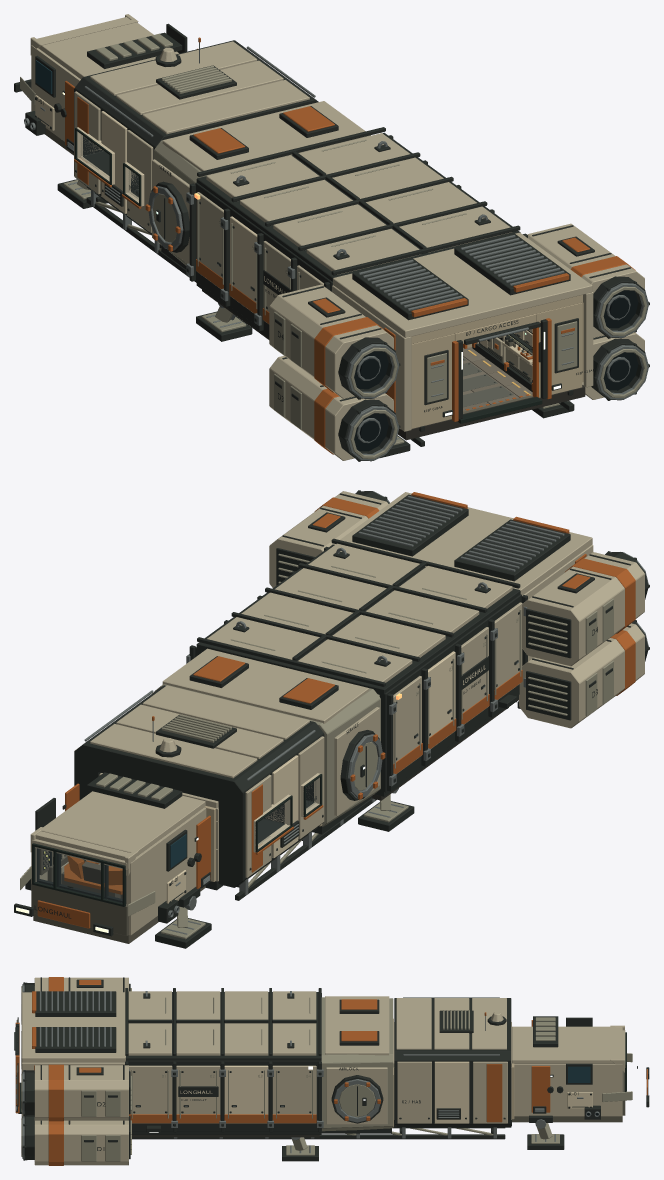
File: longhaul_playable.glb
3 renders of one model, top to bottom at view 1: azimuth 30°, elevation 25°; view 2: azimuth 150°, elevation 25°; view 3: azimuth 270°, elevation 25°, orthographic. The views are drawn at different scales.
Visible parts, largest first — view 1: Exterior / 04 Cargo shell / ivory.001, Exterior / 04 Cargo shell / dark.001, Exterior / 02 Living hab / ivory.001, Exterior / 06 Engines / ivory.001, Exterior / 05 Engineering / ivory.001, Exterior / 05 Engineering / dark.001, Exterior / 03 Service and airlock / ivory.001, Exterior / 02 Living hab / dark.001, Exterior / 05 Engineering / metal.001, Exterior / 06 Engines / dark.001, Engineering / Equipment / b8aa8b / 0.001, Exterior / 06 Engines / shade.001 (+28 smaller); view 2: Exterior / 04 Cargo shell / ivory.001, Exterior / 04 Cargo shell / dark.001, Exterior / 06 Engines / ivory.001, Exterior / 02 Living hab / ivory.001, Exterior / 02 Living hab / dark.001, Exterior / 03 Service and airlock / ivory.001, Cockpit / Ceiling / b4ab91 / 0.001, Exterior / 06 Engines / dark.001, Exterior / 05 Engineering / dark.001, Exterior / 05 Engineering / ivory.001, Exterior / 05 Engineering / metal.001, Cockpit / Shell / b4ab91 / 0.001 (+23 smaller); view 3: Exterior / 04 Cargo shell / ivory.001, Exterior / 04 Cargo shell / dark.001, Exterior / 02 Living hab / ivory.001, Exterior / 06 Engines / ivory.001, Exterior / 02 Living hab / dark.001, Exterior / 03 Service and airlock / ivory.001, Exterior / 05 Engineering / dark.001, Cockpit / Shell / b4ab91 / 0.001, Cockpit / Ceiling / b4ab91 / 0.001, Exterior / 05 Engineering / ivory.001, Exterior / 03 Service and airlock / shade.001, Exterior / 04 Cargo shell / light.001 (+27 smaller).
Part boxes in pixels (x1,y1,x2,y2): Exterior / 04 Cargo shell / ivory.001: [196, 133, 511, 323]; Exterior / 04 Cargo shell / dark.001: [186, 127, 527, 338]; Exterior / 02 Living hab / ivory.001: [74, 41, 309, 232]; Exterior / 06 Engines / ivory.001: [269, 223, 644, 460]; Exterior / 05 Engineering / ivory.001: [332, 232, 593, 431]; Exterior / 05 Engineering / dark.001: [352, 233, 578, 419]; Exterior / 03 Service and airlock / ivory.001: [152, 101, 367, 263]; Exterior / 02 Living hab / dark.001: [74, 40, 318, 233]; Exterior / 05 Engineering / metal.001: [358, 235, 573, 396]; Exterior / 06 Engines / dark.001: [275, 225, 649, 461]; Engineering / Equipment / b8aa8b / 0.001: [411, 303, 582, 428]; Exterior / 06 Engines / shade.001: [274, 286, 647, 458]; Exterior / 04 Cargo shell / ivory.001: [207, 543, 522, 773]; Exterior / 04 Cargo shell / dark.001: [189, 538, 527, 796]; Exterior / 06 Engines / ivory.001: [269, 491, 644, 728]; Exterior / 02 Living hab / ivory.001: [74, 685, 324, 877]; Exterior / 02 Living hab / dark.001: [74, 685, 324, 887]; Exterior / 03 Service and airlock / ivory.001: [152, 648, 379, 816]; Cockpit / Ceiling / b4ab91 / 0.001: [31, 791, 205, 869]; Exterior / 06 Engines / dark.001: [276, 490, 649, 720]; Exterior / 05 Engineering / dark.001: [352, 494, 570, 581]; Exterior / 05 Engineering / ivory.001: [334, 492, 593, 660]; Exterior / 05 Engineering / metal.001: [358, 496, 564, 571]; Cockpit / Shell / b4ab91 / 0.001: [31, 807, 206, 935]; Exterior / 04 Cargo shell / ivory.001: [128, 991, 316, 1123]; Exterior / 04 Cargo shell / dark.001: [125, 988, 321, 1134]; Exterior / 02 Living hab / ivory.001: [396, 998, 507, 1123]; Exterior / 06 Engines / ivory.001: [34, 977, 128, 1165]; Exterior / 02 Living hab / dark.001: [394, 998, 511, 1127]; Exterior / 03 Service and airlock / ivory.001: [325, 996, 389, 1124]; Exterior / 05 Engineering / dark.001: [15, 991, 116, 1111]; Cockpit / Shell / b4ab91 / 0.001: [514, 1064, 622, 1116]; Cockpit / Ceiling / b4ab91 / 0.001: [512, 1026, 625, 1067]; Exterior / 05 Engineering / ivory.001: [21, 992, 125, 1117]; Exterior / 03 Service and airlock / shade.001: [321, 997, 393, 1131]; Exterior / 04 Cargo shell / light.001: [224, 1065, 268, 1123].
Bounding box in the file's own units: 10.88 × 5.85 × 26.46.
